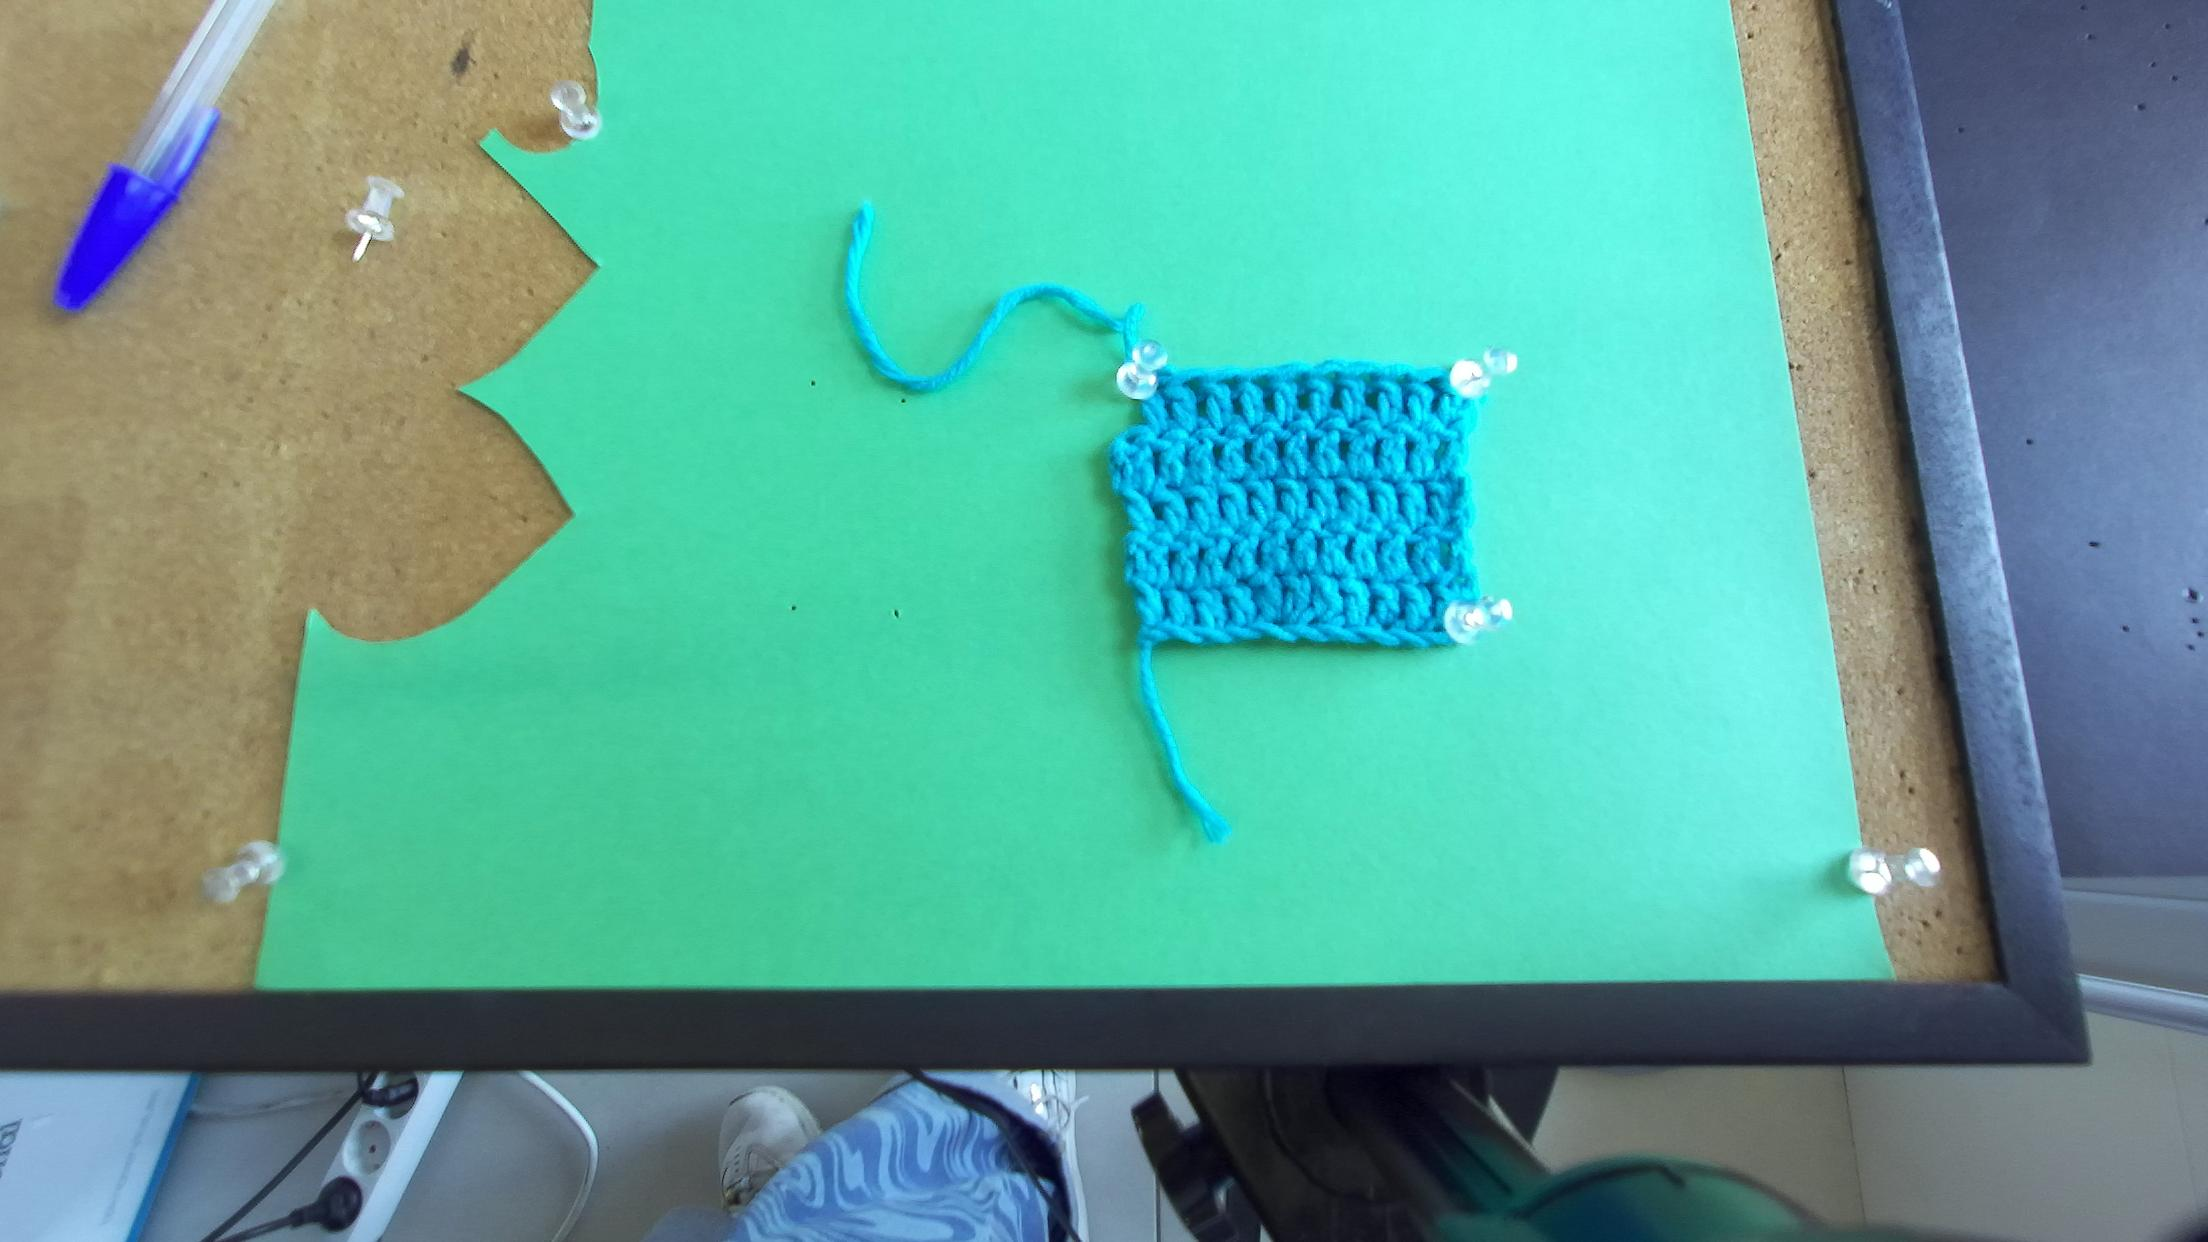hole: (1218, 376, 1240, 391), (1183, 378, 1200, 397), (1251, 376, 1271, 393), (1294, 373, 1310, 390), (1322, 372, 1344, 384), (1359, 372, 1377, 382), (1395, 375, 1413, 385), (1156, 381, 1168, 393)
swatch: (1107, 361, 1510, 652)
